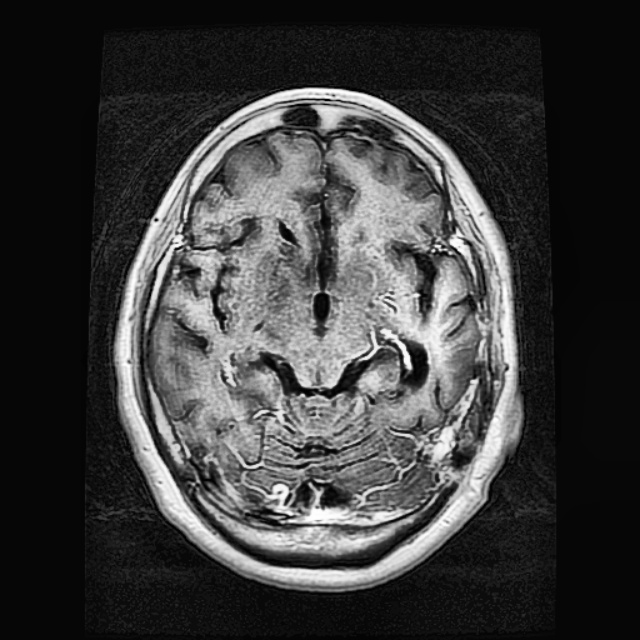Glioma: (364, 377, 479, 504)
